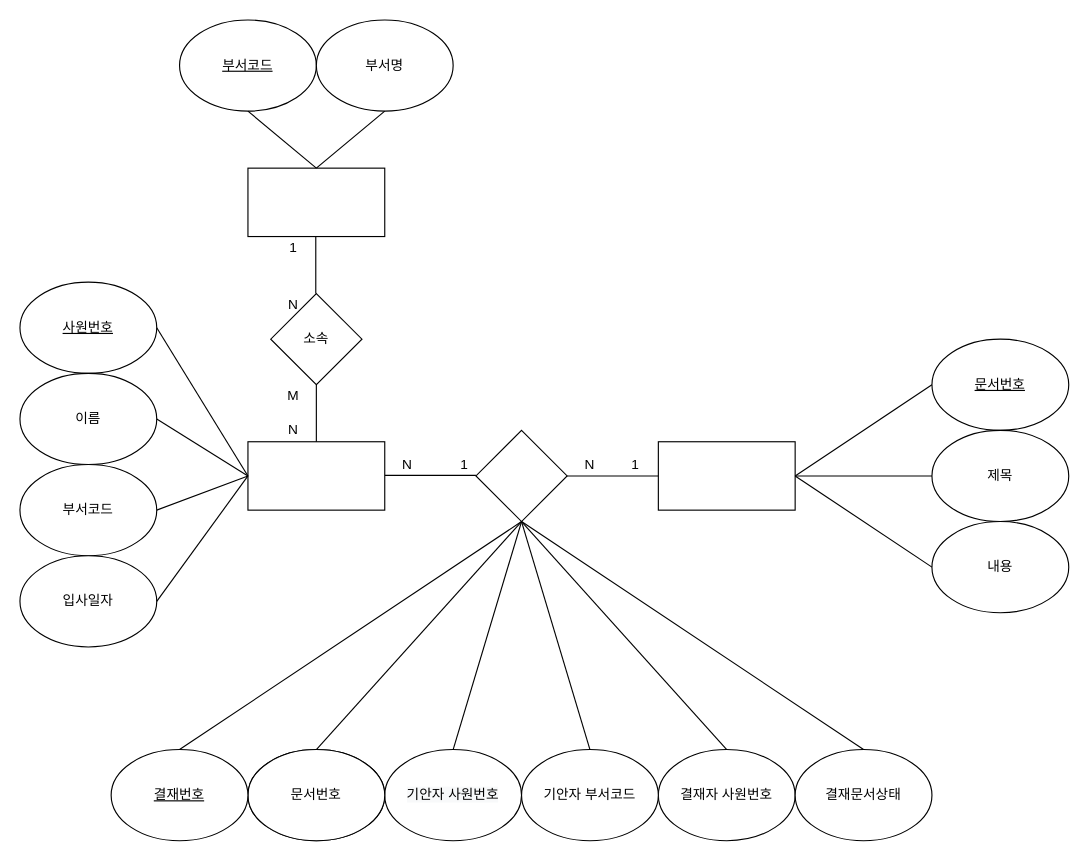
This 1089x861 diagram has some shape labels left out. The centre of each missing label's shape, as x and y in pixels:
결재: point 521,475
문서: point 726,475
부서: point 316,202
사원: point 316,475
